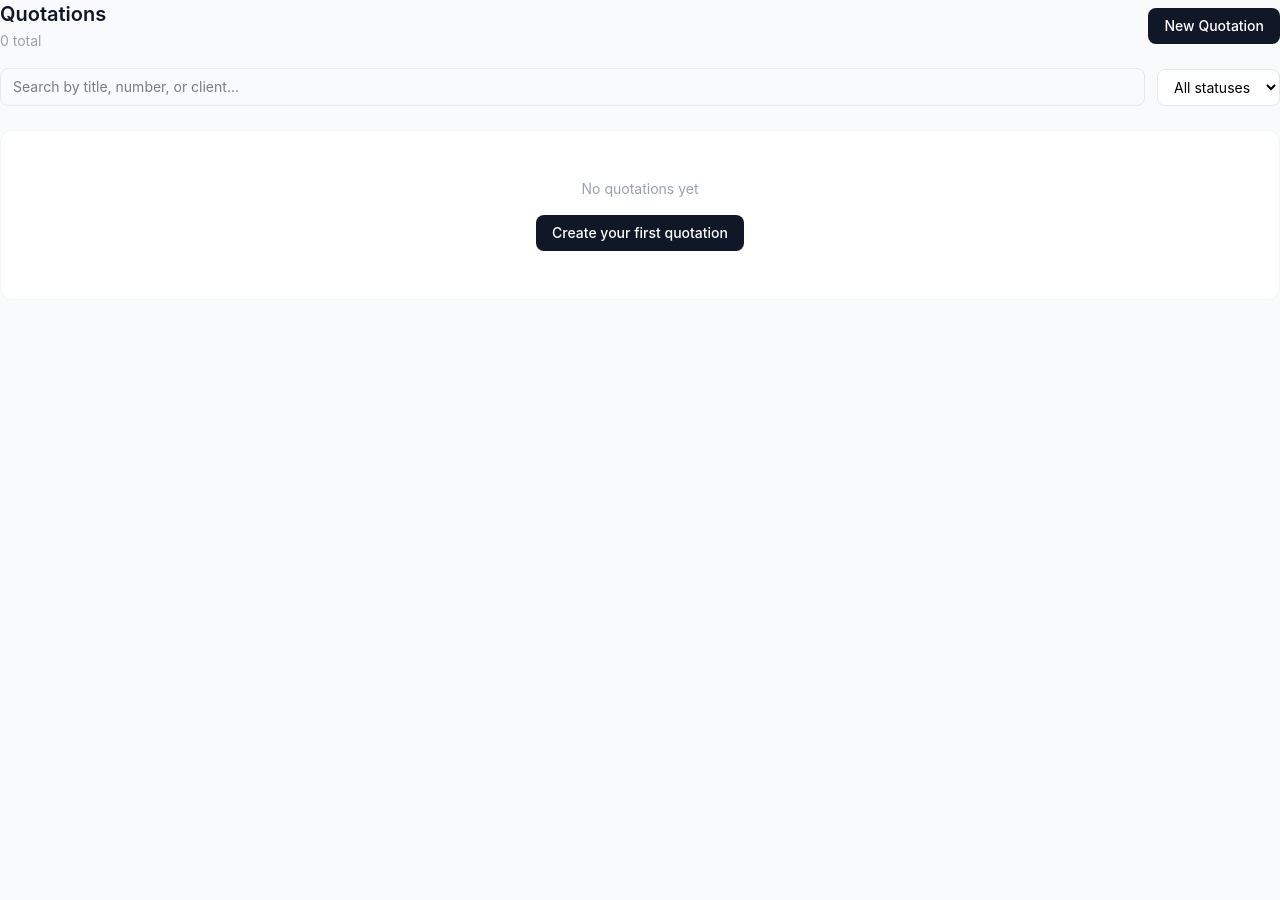
Test case: QuotationsPage › opens modal from empty state button
This screenshot has width=1280, height=900.
Click the button "Create your first quotation" at {"x": 640, "y": 233}, box [536,215,744,251]
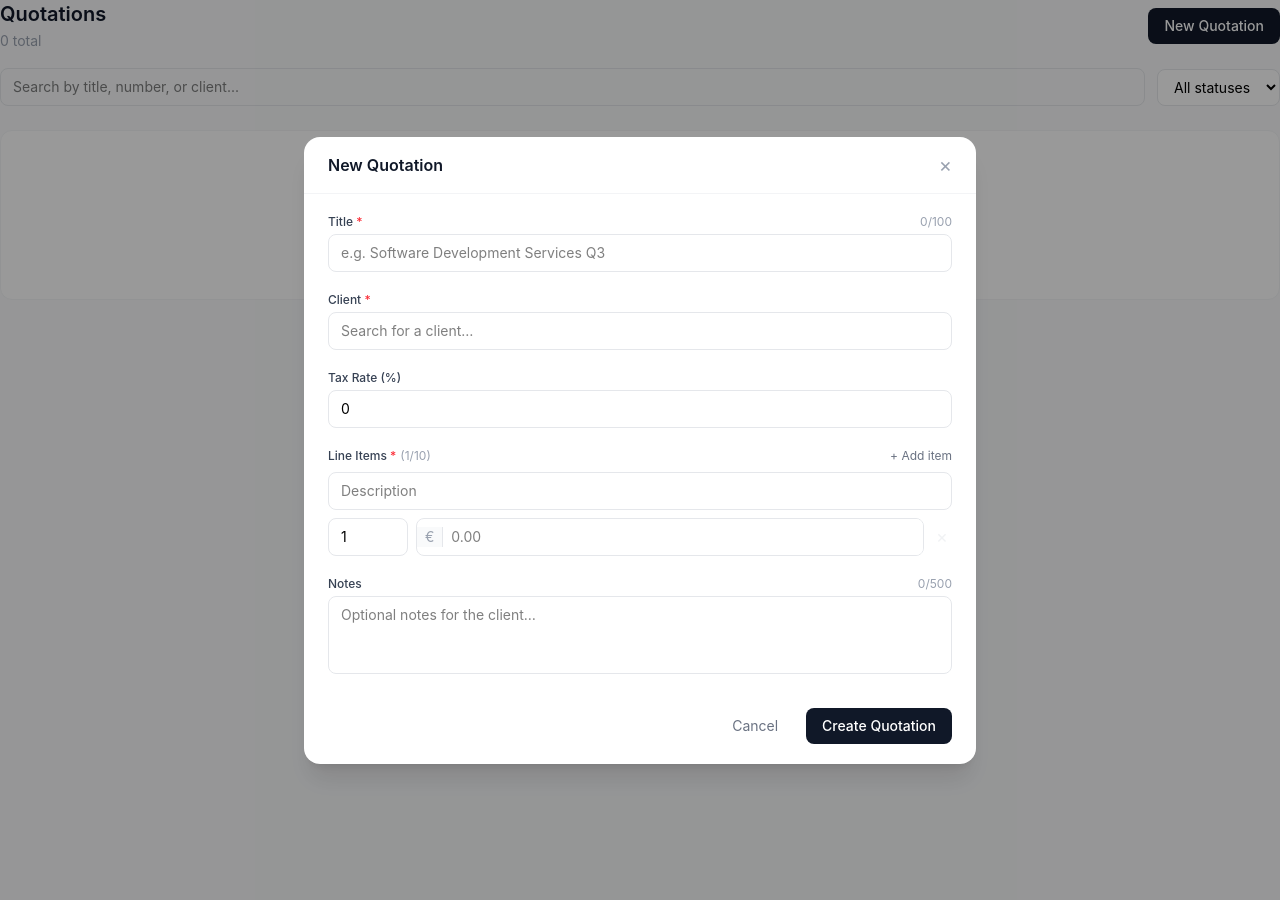
Expected: the dialog named "Create quotation" is shown
